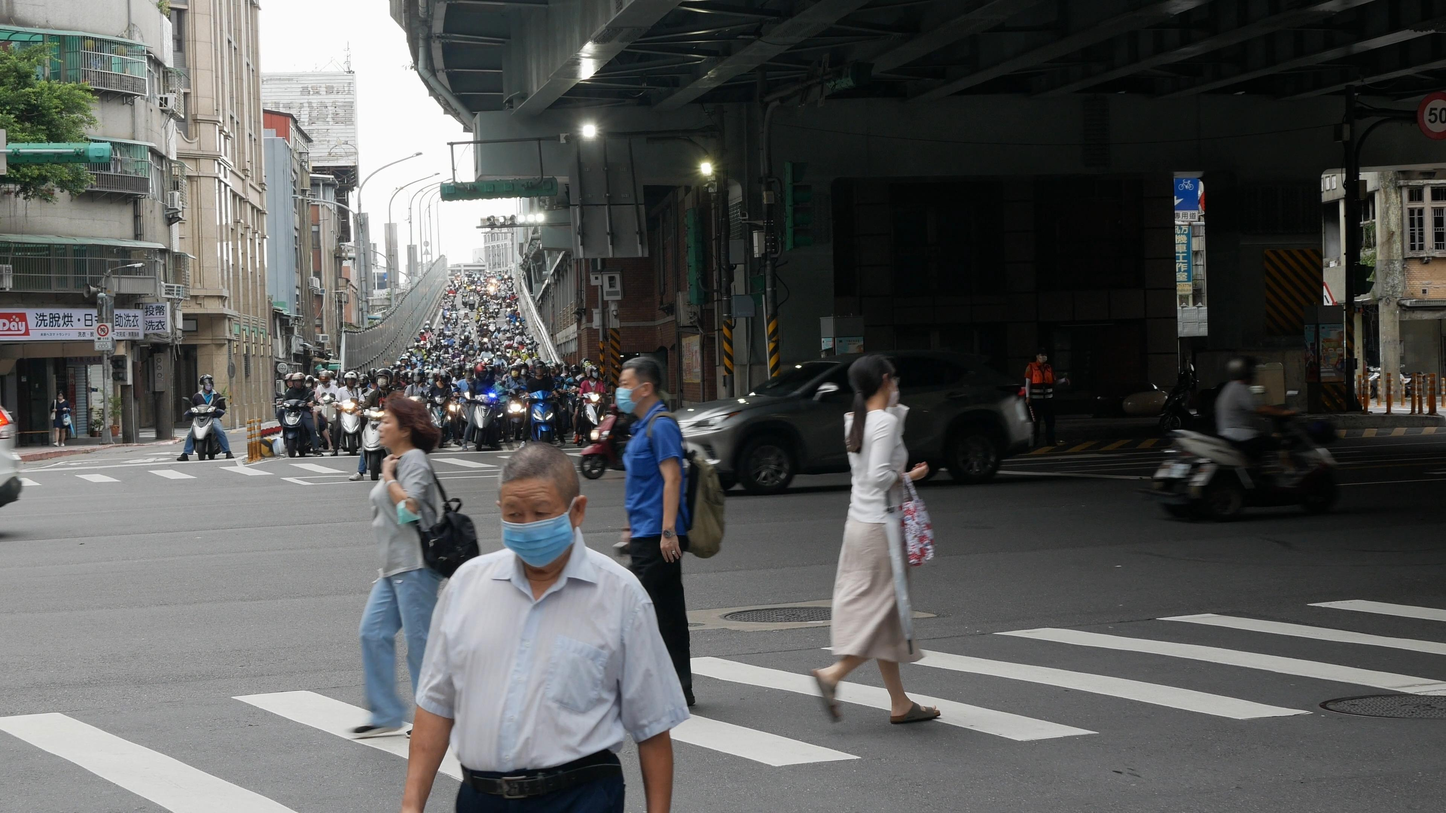driver: (1170, 355, 1340, 522), (176, 374, 235, 461), (349, 368, 393, 481), (275, 372, 327, 458), (462, 364, 513, 451), (518, 360, 566, 450), (573, 361, 615, 446), (329, 371, 368, 456), (425, 370, 463, 448), (499, 364, 527, 440)
helmet: (1224, 356, 1257, 385), (374, 368, 393, 388), (291, 372, 306, 390), (199, 374, 214, 391), (343, 371, 357, 388), (533, 360, 546, 377), (475, 364, 488, 381), (586, 364, 600, 379), (411, 368, 425, 383), (582, 361, 595, 376), (319, 370, 331, 386), (451, 363, 463, 379), (439, 370, 451, 385), (462, 364, 474, 379), (357, 374, 369, 388), (283, 373, 294, 388), (580, 358, 592, 371), (510, 364, 521, 377), (519, 362, 529, 375), (305, 375, 314, 388)
no-helmet: (495, 441, 587, 569), (376, 390, 439, 454), (614, 357, 665, 413), (847, 355, 900, 408), (57, 390, 64, 400)
